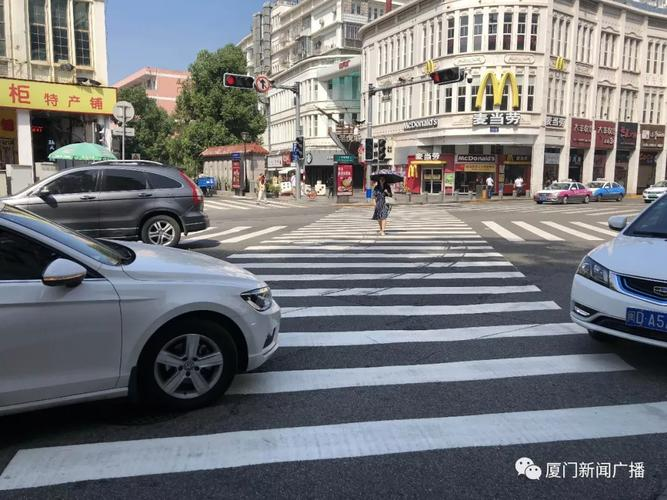car: (2, 204, 282, 416), (1, 160, 210, 248), (568, 192, 666, 350), (533, 181, 592, 205), (588, 180, 626, 202), (642, 184, 667, 204)
person: (370, 169, 393, 236), (256, 173, 266, 201), (513, 176, 525, 198), (485, 175, 495, 200)
traffic light: (430, 67, 463, 84), (224, 73, 255, 88), (251, 74, 274, 93), (364, 138, 374, 160)
